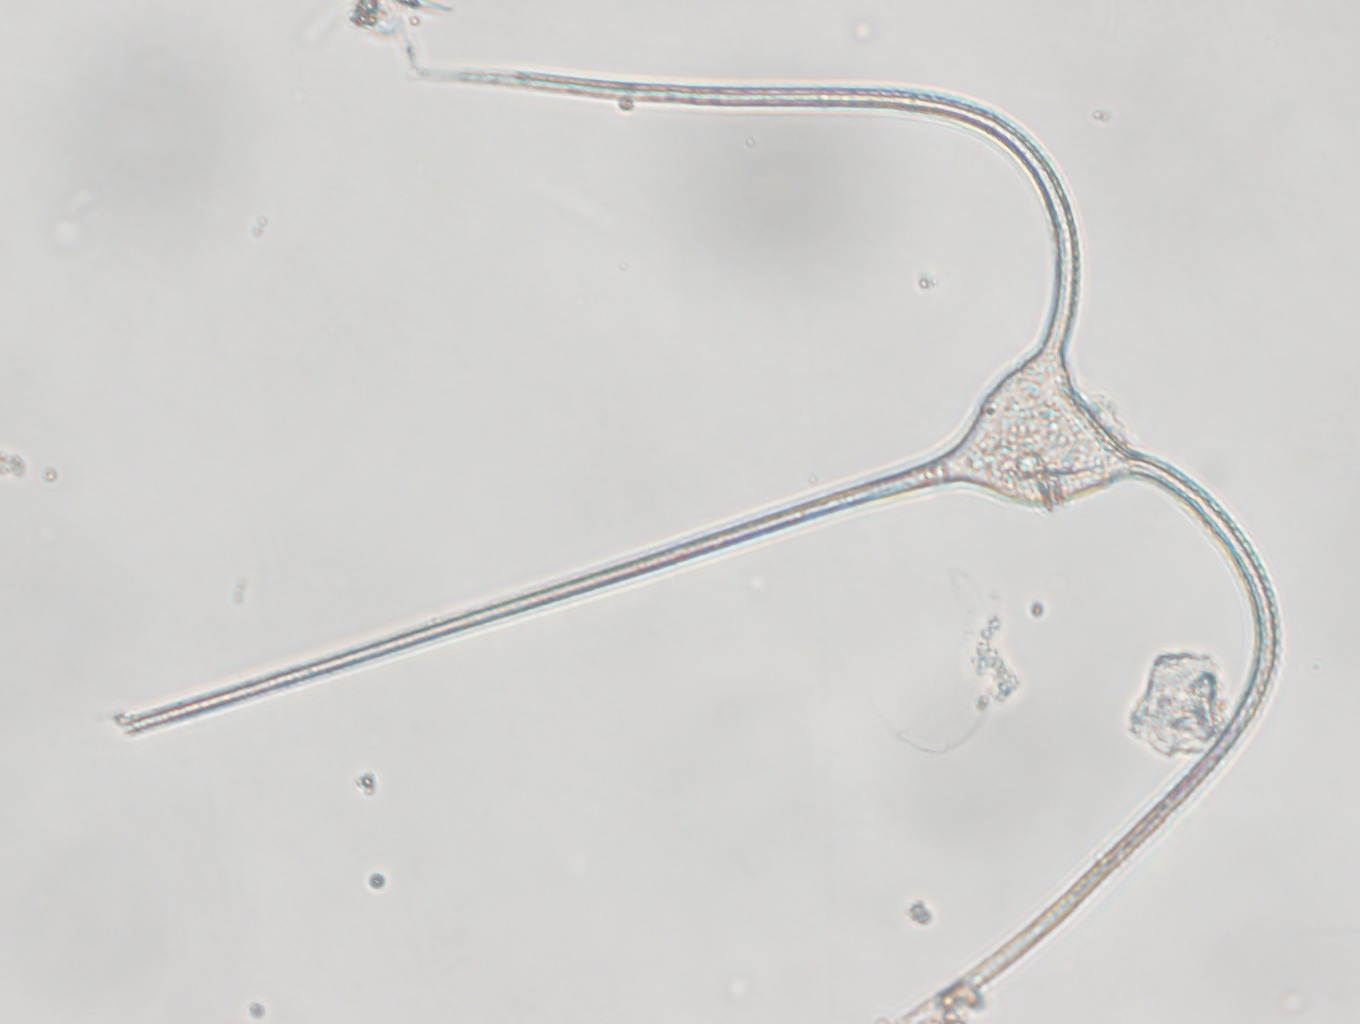ceratium trichoceros: (120, 68, 1280, 1018)
